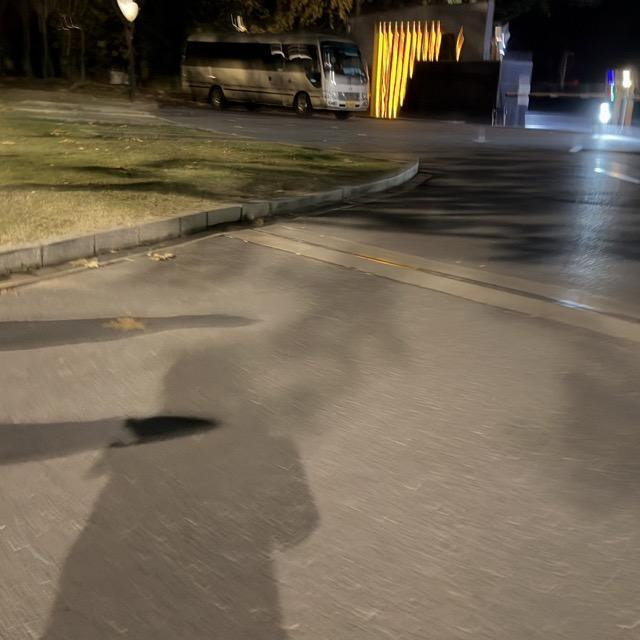curb: (0, 162, 418, 275)
